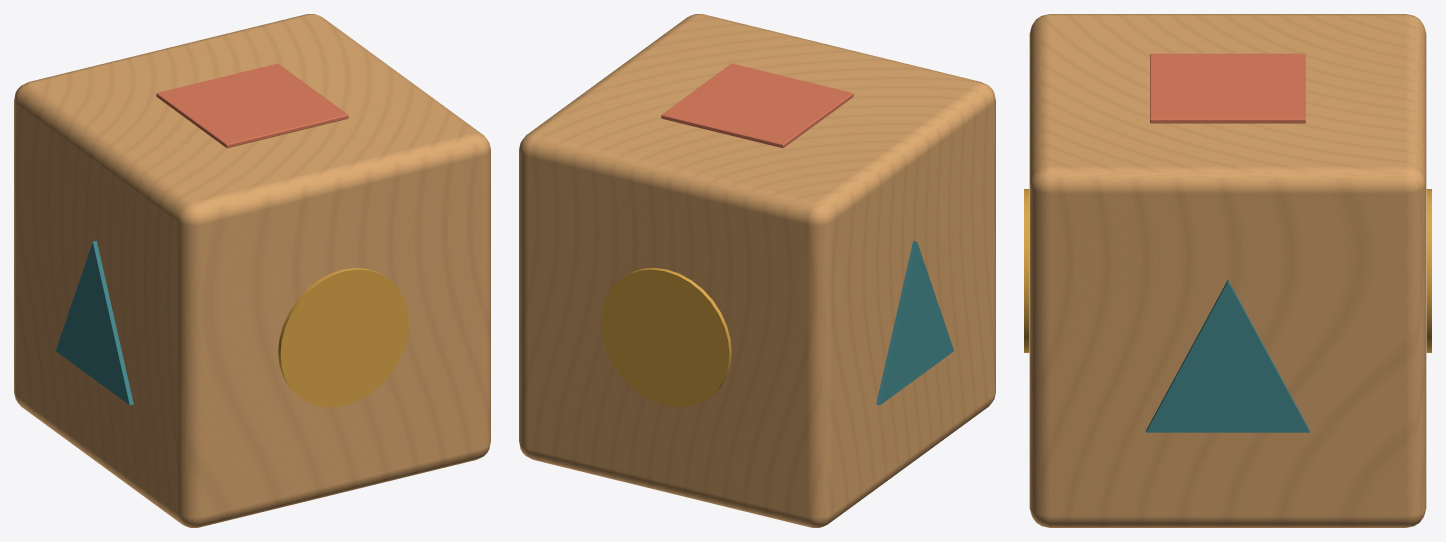
File: play-cube.glb
3 renders of one model, left to right at view 1: azimuth 30°, elevation 25°; view 2: azimuth 150°, elevation 25°; view 3: azimuth 270°, elevation 25°, orthographic. The views are drawn at different scales.
Parts seen in each view (by area): view 1: Cube_Wood, Cube_Yellow_Circle_Front, Cube_Coral_Square_Top, Cube_Blue_Triangle_Left; view 2: Cube_Wood, Cube_Yellow_Circle_Back, Cube_Coral_Square_Top, Cube_Blue_Triangle_Left; view 3: Cube_Wood, Cube_Blue_Triangle_Right, Cube_Coral_Square_Top, Cube_Yellow_Circle_Back, Cube_Yellow_Circle_Front.
Boxes of the visible parts, left/top/right/bottom form: Cube_Wood: left=14, top=14, right=490, bottom=527; Cube_Yellow_Circle_Front: left=278, top=268, right=408, bottom=407; Cube_Coral_Square_Top: left=156, top=63, right=348, bottom=148; Cube_Blue_Triangle_Left: left=56, top=241, right=133, bottom=405; Cube_Wood: left=519, top=14, right=995, bottom=527; Cube_Yellow_Circle_Back: left=601, top=268, right=731, bottom=407; Cube_Coral_Square_Top: left=661, top=63, right=853, bottom=148; Cube_Blue_Triangle_Left: left=876, top=241, right=953, bottom=405; Cube_Wood: left=1029, top=14, right=1426, bottom=527; Cube_Blue_Triangle_Right: left=1146, top=280, right=1309, bottom=432; Cube_Coral_Square_Top: left=1150, top=53, right=1305, bottom=123; Cube_Yellow_Circle_Back: left=1426, top=189, right=1431, bottom=352; Cube_Yellow_Circle_Front: left=1024, top=189, right=1029, bottom=352.
Size of the model in its own units: 0.1592 by 0.1592 by 0.1592.
4 materials, 1 textured.
